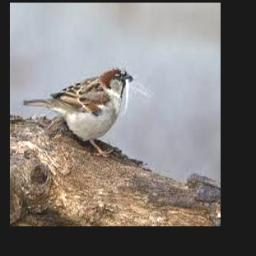Sparrow: (22, 66, 133, 156)
